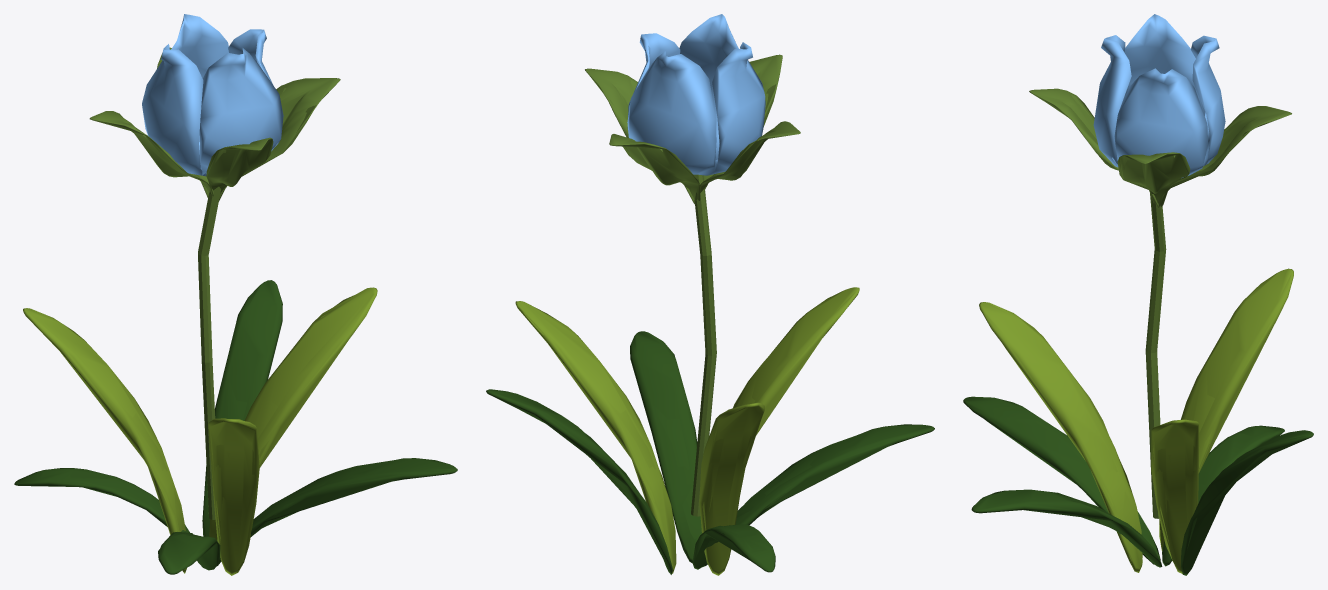
File: tulipan_AZUL_2.fbx
3 renders of one model, left to right at view 1: azimuth 30°, elevation 25°; view 2: azimuth 150°, elevation 25°; view 3: azimuth 270°, elevation 25°, orthographic.
Parts seen in each view (by area): view 1: Cubo.358, Plano.063, Cubo.360, Cubo.359, Cubo.356, Plano.062, Cubo.357, Plano.065, Cubo.355, DEMAS2.028, DEMAS2.027, Cubo.354 (+3 smaller); view 2: Cubo.357, Plano.061, Cubo.358, Cubo.360, Cubo.354, Cubo.359, Plano.062, Cubo.356, Plano.065, Plano.063, Cubo.355, DEMAS2.026 (+4 smaller); view 3: Cubo.359, Cubo.360, Plano.064, Cubo.358, Cubo.354, Cubo.356, Cubo.357, Plano.062, Plano.065, Plano.063, Plano.061, DEMAS2.028 (+3 smaller).
Part boxes in pixels (x1,y1,x2,y2): Cubo.358: (209,287,377,540); Plano.063: (199,48,283,175); Cubo.360: (23,308,186,573); Cubo.359: (208,418,259,575); Cubo.356: (202,280,282,536); Plano.062: (142,44,206,176); Cubo.357: (217,458,457,565); Plano.065: (198,186,220,519); Cubo.355: (14,468,189,532); DEMAS2.028: (219,78,340,200); DEMAS2.027: (206,137,273,200); Cubo.354: (158,532,220,574); Cubo.357: (630,331,701,562); Plano.061: (627,51,716,174); Cubo.358: (515,301,676,573); Cubo.360: (699,402,764,575); Cubo.354: (703,424,934,566); Cubo.359: (733,287,859,435); Plano.062: (699,42,765,175); Cubo.356: (486,389,672,574); Plano.065: (691,174,716,516); Plano.063: (679,14,738,160); Cubo.355: (692,524,775,572); DEMAS2.026: (609,134,700,200); Cubo.359: (979,302,1142,572); Cubo.360: (1159,268,1293,550); Plano.064: (1112,68,1207,178); Cubo.358: (1151,419,1199,573); Cubo.354: (963,396,1160,564); Cubo.356: (1181,430,1313,575); Cubo.357: (971,489,1162,567); Plano.062: (1122,14,1205,115); Plano.065: (1145,193,1166,518); Plano.063: (1093,35,1131,167); Plano.061: (1191,35,1225,166); DEMAS2.028: (1117,152,1190,206).
Bounding box in the file's own units: 393 × 639 × 381.
